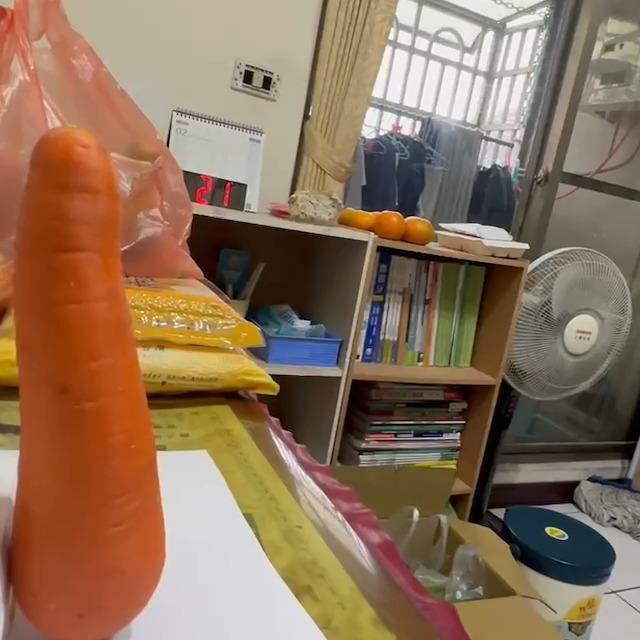carrot: (9, 126, 171, 640)
